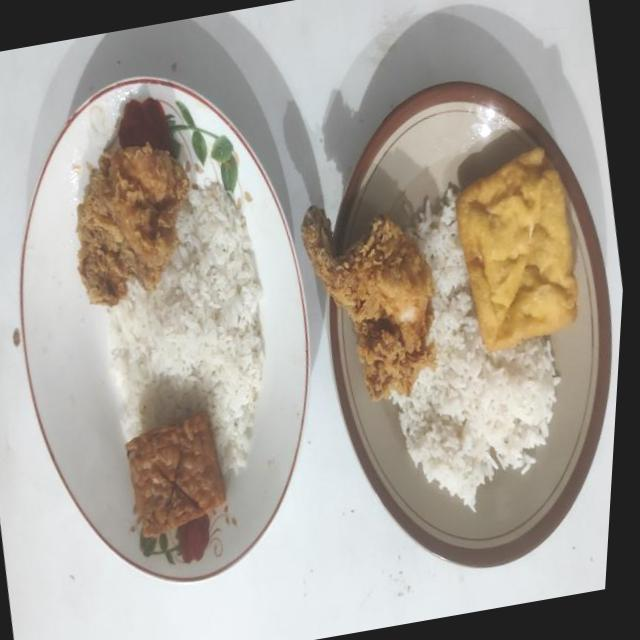nasi_putih: (390, 188, 560, 511), (107, 184, 266, 474)
tahu_goreng: (456, 147, 578, 350)
tempe_goreng: (125, 411, 226, 536)
